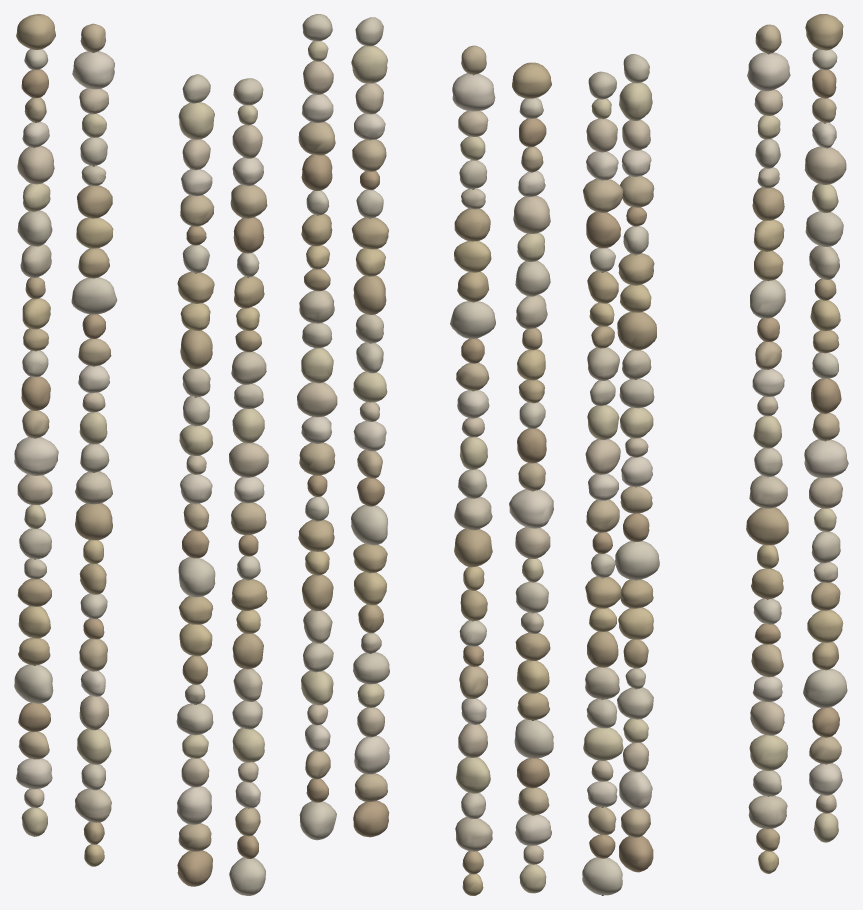
File: upper.glb
3 renders of one model, left to right at view 1: azimuth 30°, elevation 25°; view 2: azimuth 210°, elevation 25°; view 3: azimuth 270°, elevation 25°, orthographic.
Parts seen in each view (by area): view 1: upper; view 2: upper; view 3: upper.
Boxes of the visible parts, x1,y1,x2,y2 form: upper: (14,14,268,895); upper: (297,14,553,895); upper: (582,14,848,895).
Size of the model in its own units: 0.6268 by 3.62 by 1.03.
